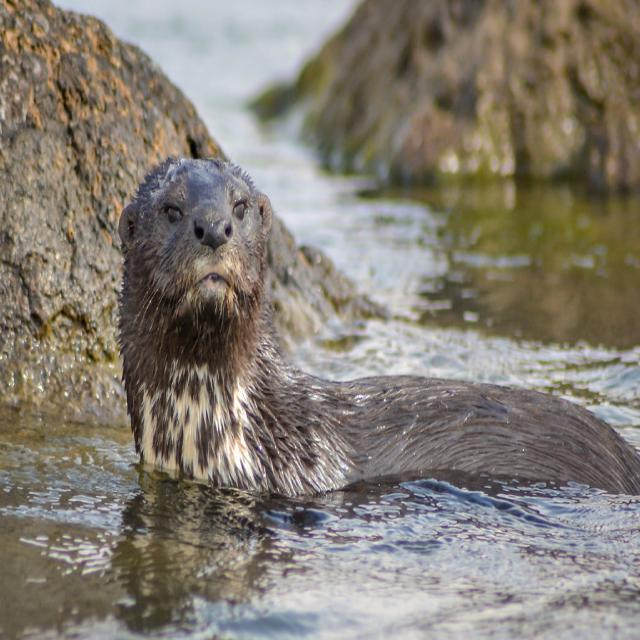otter: (119, 157, 640, 495)
